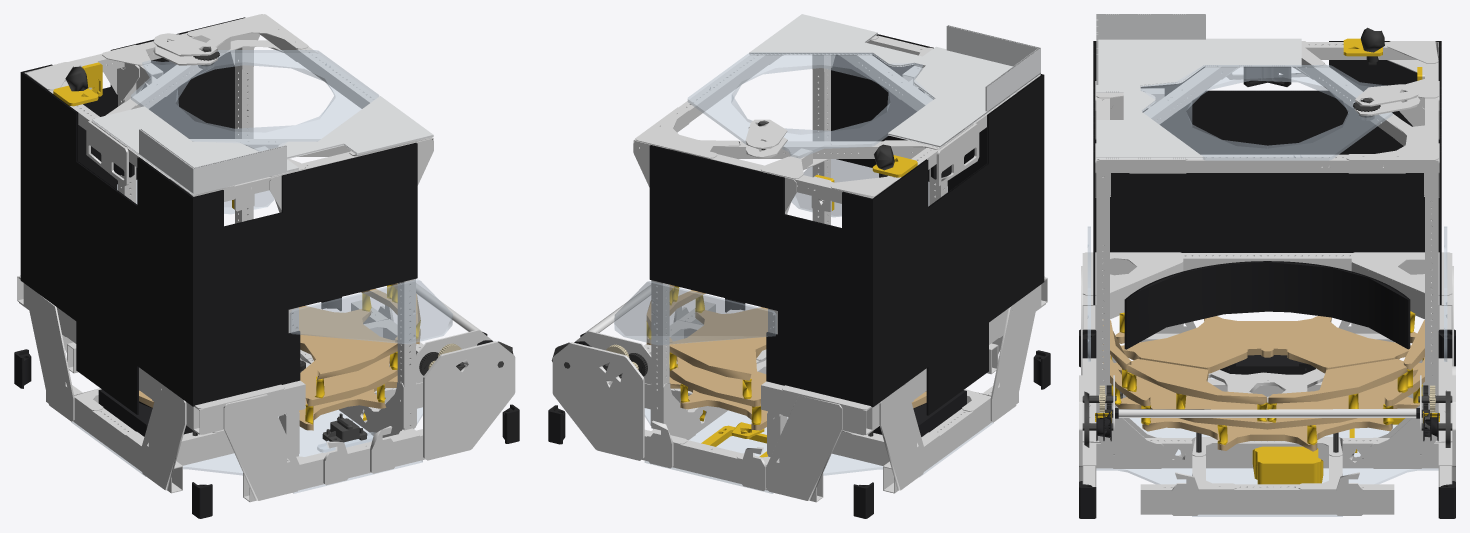
File: 604-body.glb
3 renders of one model, left to right at view 1: azimuth 30°, elevation 25°; view 2: azimuth 150°, elevation 25°; view 3: azimuth 270°, elevation 25°, orthographic.
Parts seen in each view (by area): view 1: Gearbox Roller Belt, Outer Plate, Right Slider Mount, Cable Edge Coroplast, Arc E, 12T HTD Pulley XS Spline, 8t Steel Spur Gear (20 DP, 10T Center Distance, SplineXS Bor, 120A Main Breaker; view 2: Gearbox Roller Belt, Outer Plate, Right Slider Mount, Cable Edge Coroplast, Arc E, 12T HTD Pulley XS Spline, 8t Steel Spur Gear (20 DP, 10T Center Distance, SplineXS Bor; view 3: Outer Plate, Gearbox Roller Belt, Arc E, Right Slider Mount, Cable Edge Coroplast, 12T HTD Pulley XS Spline, 8t Steel Spur Gear (20 DP, 10T Center Distance, SplineXS Bor.
Part boxes in pixels (x1,y1,x2,y2): Gearbox Roller Belt: [14, 17, 519, 518]; Outer Plate: [17, 14, 515, 502]; Right Slider Mount: [71, 50, 452, 493]; Cable Edge Coroplast: [92, 96, 433, 195]; Arc E: [139, 283, 420, 430]; 12T HTD Pulley XS Spline: [53, 62, 420, 424]; 8t Steel Spur Gear (20 DP, 10T Center Distance, SplineXS Bor: [65, 49, 460, 375]; 120A Main Breaker: [322, 413, 367, 442]; Gearbox Roller Belt: [548, 34, 1050, 518]; Outer Plate: [552, 35, 1047, 502]; Right Slider Mount: [614, 52, 993, 493]; Cable Edge Coroplast: [749, 14, 1040, 147]; Arc E: [646, 284, 926, 430]; 12T HTD Pulley XS Spline: [646, 155, 917, 457]; 8t Steel Spur Gear (20 DP, 10T Center Distance, SplineXS Bor: [619, 123, 894, 377]; Outer Plate: [1079, 41, 1455, 515]; Gearbox Roller Belt: [1079, 41, 1455, 518]; Arc E: [1102, 316, 1432, 451]; Right Slider Mount: [1087, 65, 1447, 516]; Cable Edge Coroplast: [1096, 14, 1301, 159]; 12T HTD Pulley XS Spline: [1095, 38, 1439, 484]; 8t Steel Spur Gear (20 DP, 10T Center Distance, SplineXS Bor: [1086, 27, 1429, 417].
Bounding box in the file's own units: 0.6953 × 0.7112 × 0.6985.
